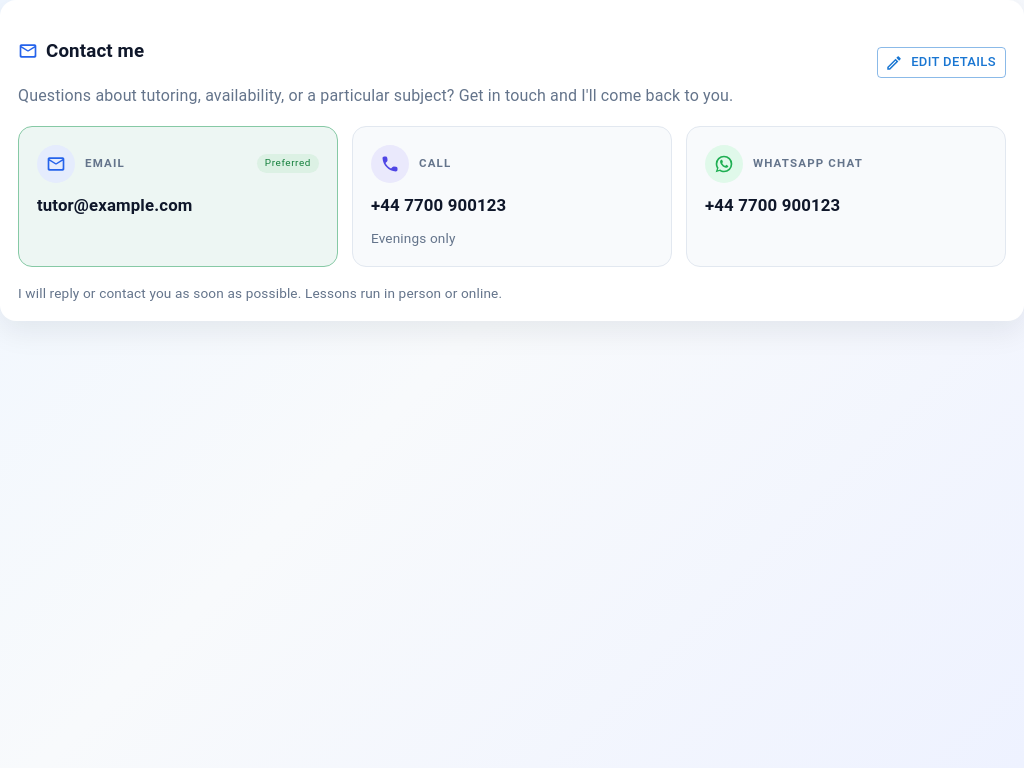
Test: ContactView › seeds the editor with the stored notes and preference
This screenshot has width=1024, height=768.
Click the button "Edit details" at coordinates (942, 63), box [877, 47, 1006, 78]
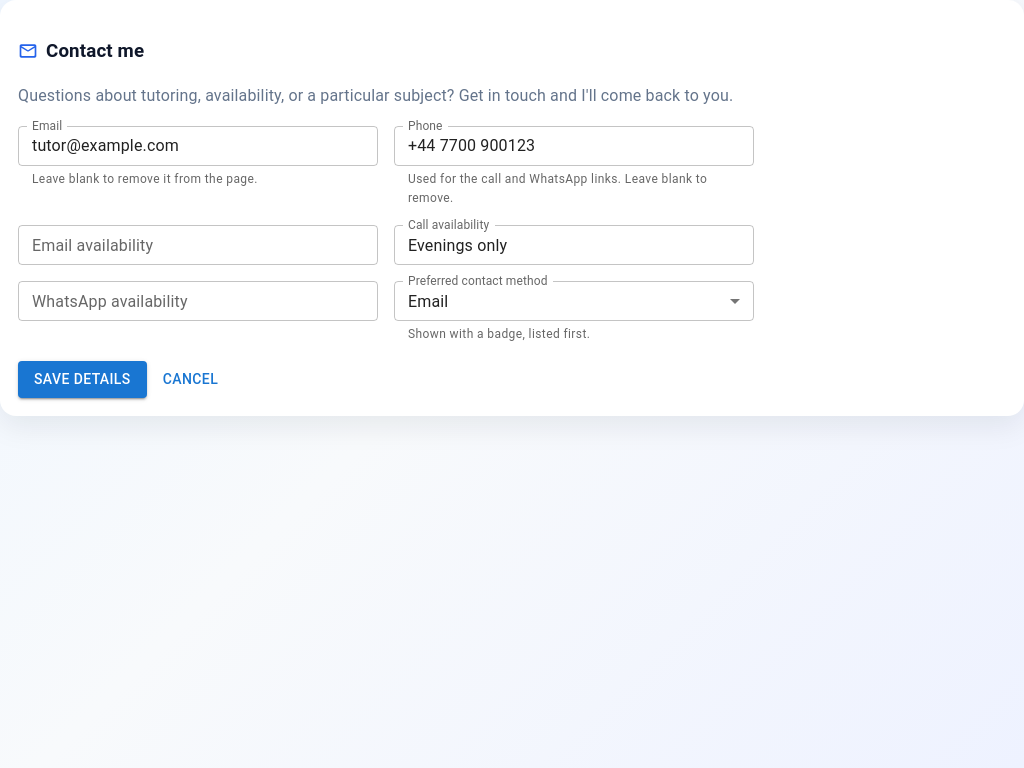
Expected: the field labelled "Call availability" holds "Evenings only", [394, 225, 754, 265]
Expected: the dropdown named "Preferred contact method" reads "Email", [408, 292, 448, 311]
